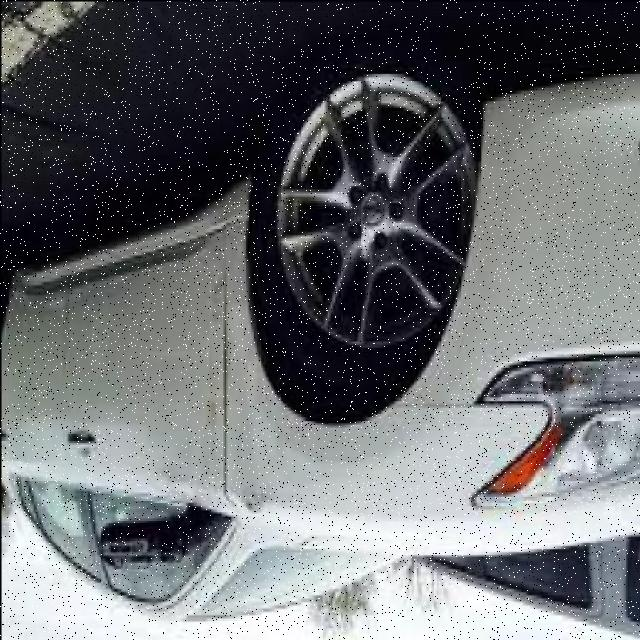damage: (197, 269, 289, 521)
